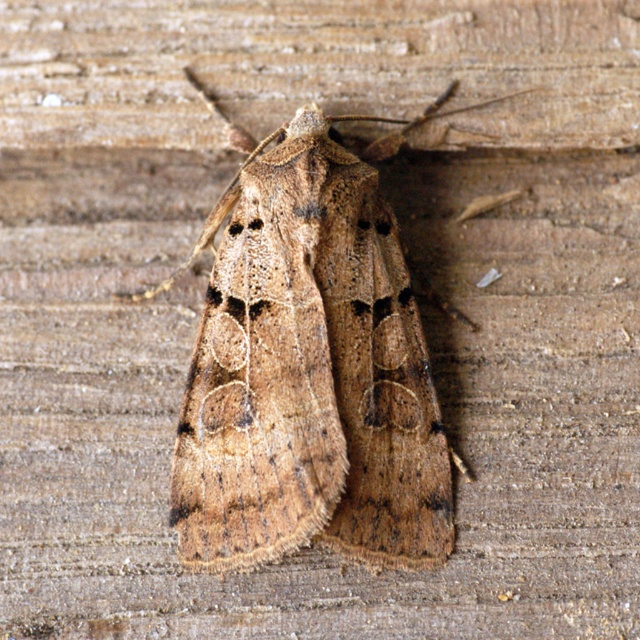Moths and butterflies: (109, 60, 547, 580)
